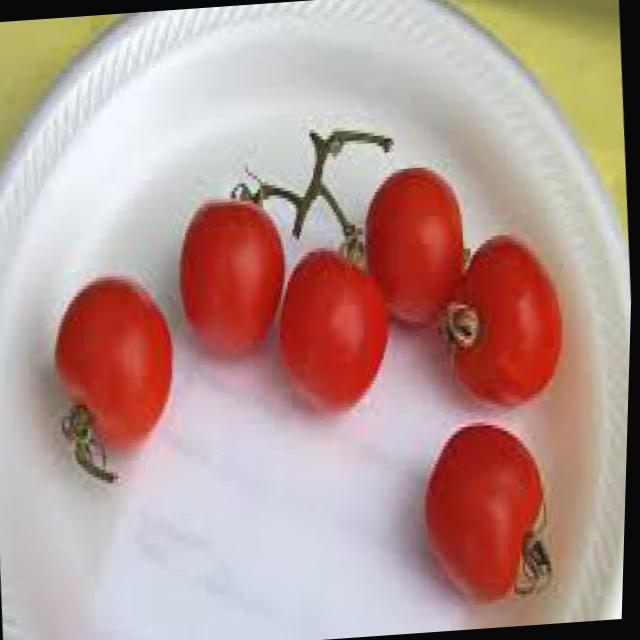tomato: (46, 273, 186, 487), (417, 418, 562, 612), (434, 230, 574, 410), (272, 246, 399, 422), (174, 194, 296, 366), (359, 164, 474, 332)
